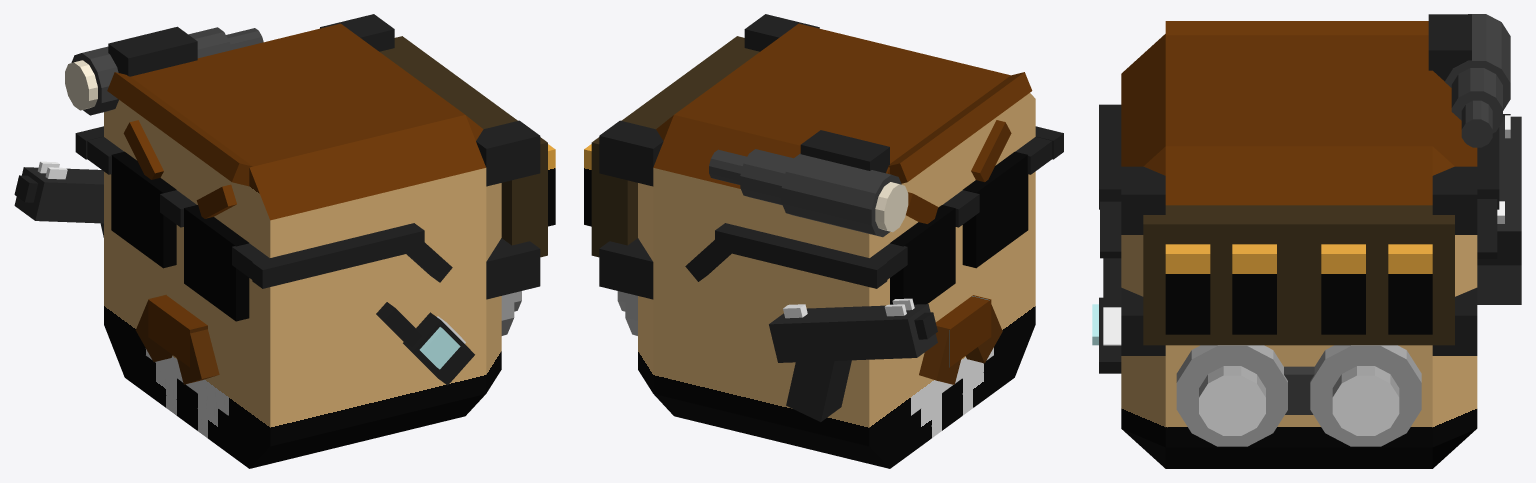
File: playerShootingPistol.gltf
The picture shows the model from 3 angles, left to right: view 1: azimuth 30°, elevation 25°; view 2: azimuth 150°, elevation 25°; view 3: azimuth 270°, elevation 25°; orthographic projection. The views are drawn at different scales.
Visible parts, largest first — view 1: beveled_cuboid, cube; view 2: beveled_cuboid, cube; view 3: beveled_cuboid, cube.
Part boxes in pixels (x1,y1,x2,y2): beveled_cuboid: (65, 14, 555, 468); cube: (14, 161, 103, 237); beveled_cuboid: (584, 14, 1063, 468); cube: (769, 298, 937, 421); beveled_cuboid: (1092, 14, 1510, 468); cube: (1477, 114, 1521, 304).
Size of the model in its own units: 1.32 by 1.06 by 1.21.
4 materials, 4 textured.
